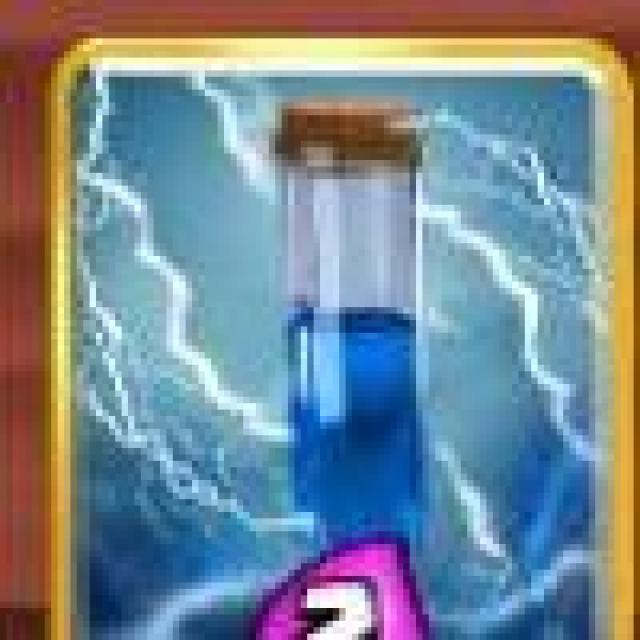Zap: (53, 38, 634, 640)
